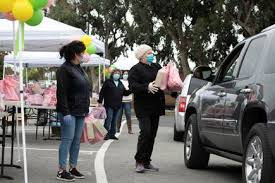mask: (64, 38, 89, 69), (136, 45, 155, 66), (111, 68, 123, 81), (121, 68, 130, 81)
